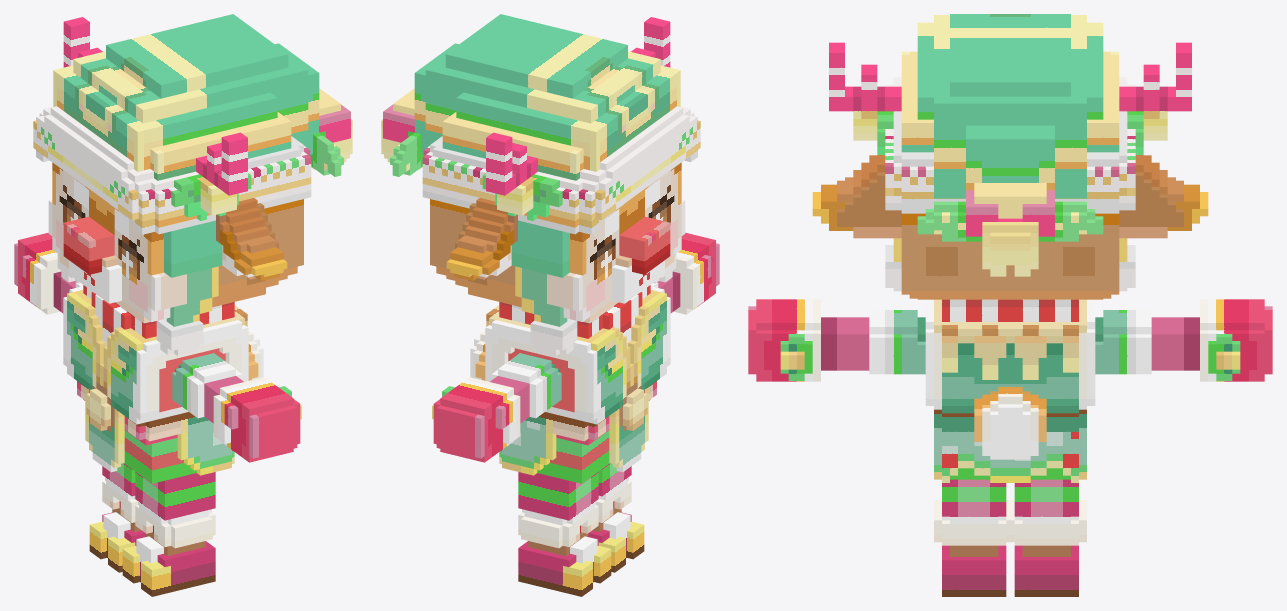
File: 皮肤_圣诞鹿.gltf
3 renders of one model, left to right at view 1: azimuth 30°, elevation 25°; view 2: azimuth 150°, elevation 25°; view 3: azimuth 270°, elevation 25°, orthographic. The views are drawn at different scales.
Parts seen in each view (by area): view 1: Object; view 2: Object; view 3: Object.
Part boxes in pixels (x1,y1,x2,y2): Object: (14,14,352,596); Object: (381,14,719,596); Object: (748,14,1272,596).
Bounding box in the file's own units: 42 × 76 × 65.
1 material, 1 textured.
